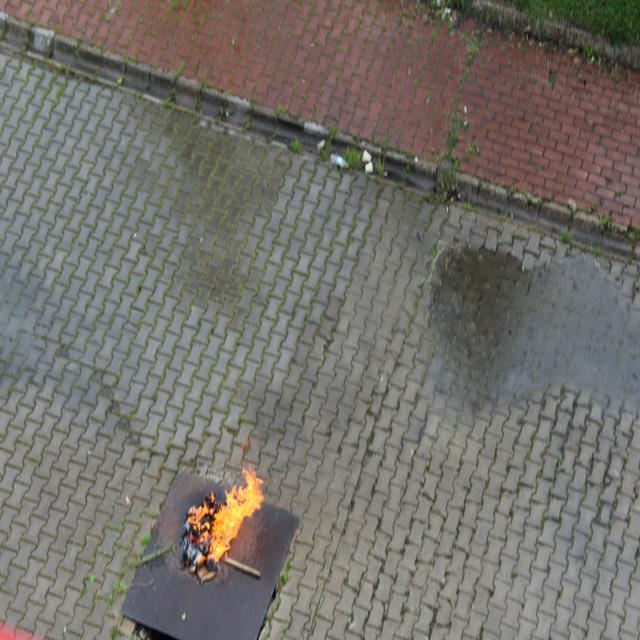fire: (194, 454, 261, 580)
